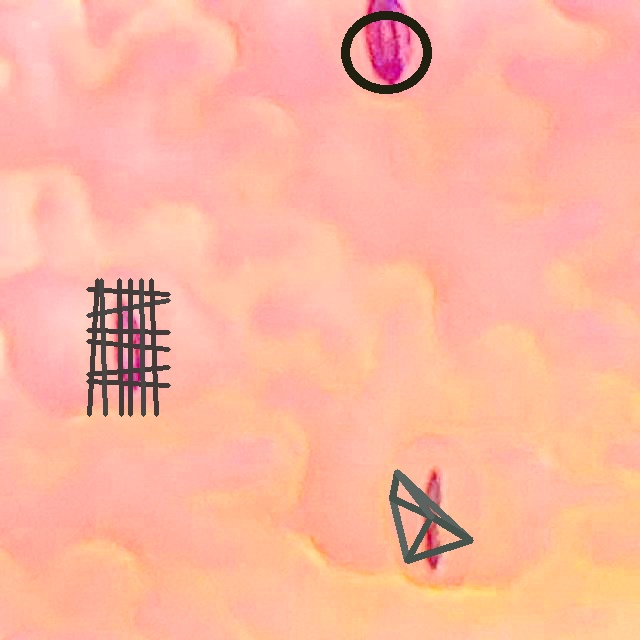open: (87, 279, 169, 415), (389, 470, 473, 563), (340, 12, 431, 93)
